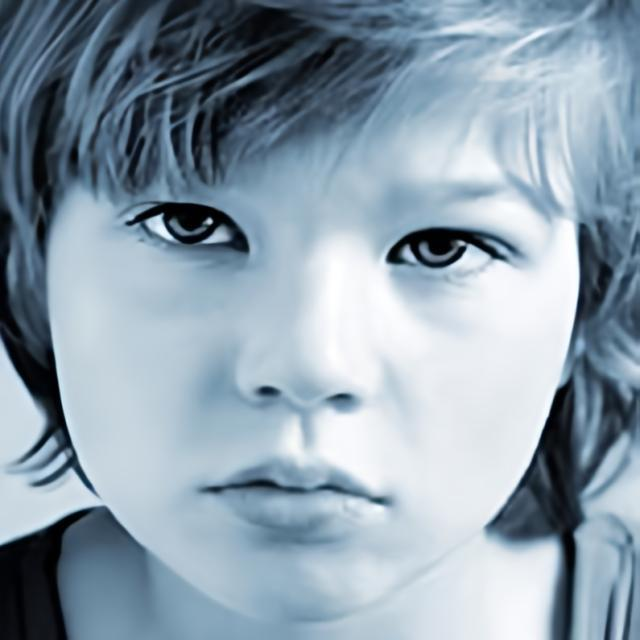anger: (51, 44, 584, 622)
